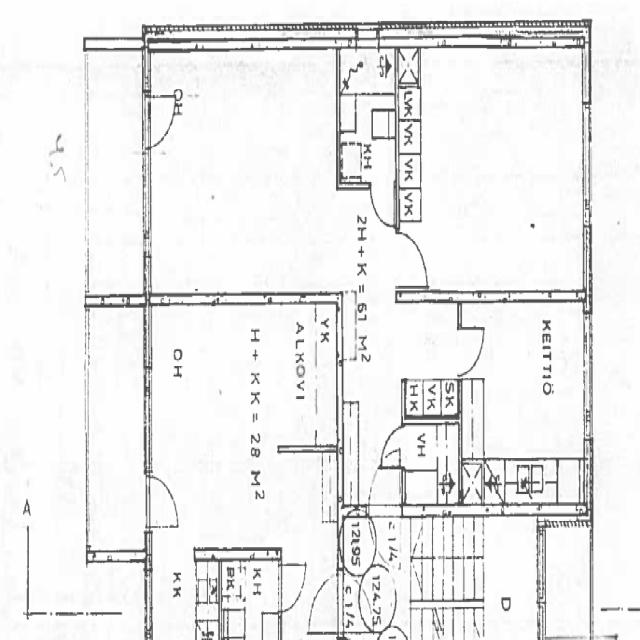door: (143, 467, 183, 532), (394, 225, 431, 292), (307, 570, 342, 638), (366, 461, 403, 519), (146, 88, 180, 150), (454, 321, 488, 379), (277, 557, 308, 615), (368, 180, 396, 228), (379, 424, 405, 472)
window: (141, 382, 155, 476), (354, 20, 381, 46), (142, 567, 154, 622)
zone: (397, 42, 588, 297), (148, 302, 334, 556), (148, 48, 338, 296), (462, 298, 589, 503), (84, 298, 148, 564), (408, 515, 540, 640), (337, 43, 397, 188), (340, 509, 408, 636), (397, 296, 462, 417), (148, 542, 219, 640), (540, 519, 592, 640), (399, 419, 461, 508), (220, 553, 281, 640), (195, 557, 219, 640)
